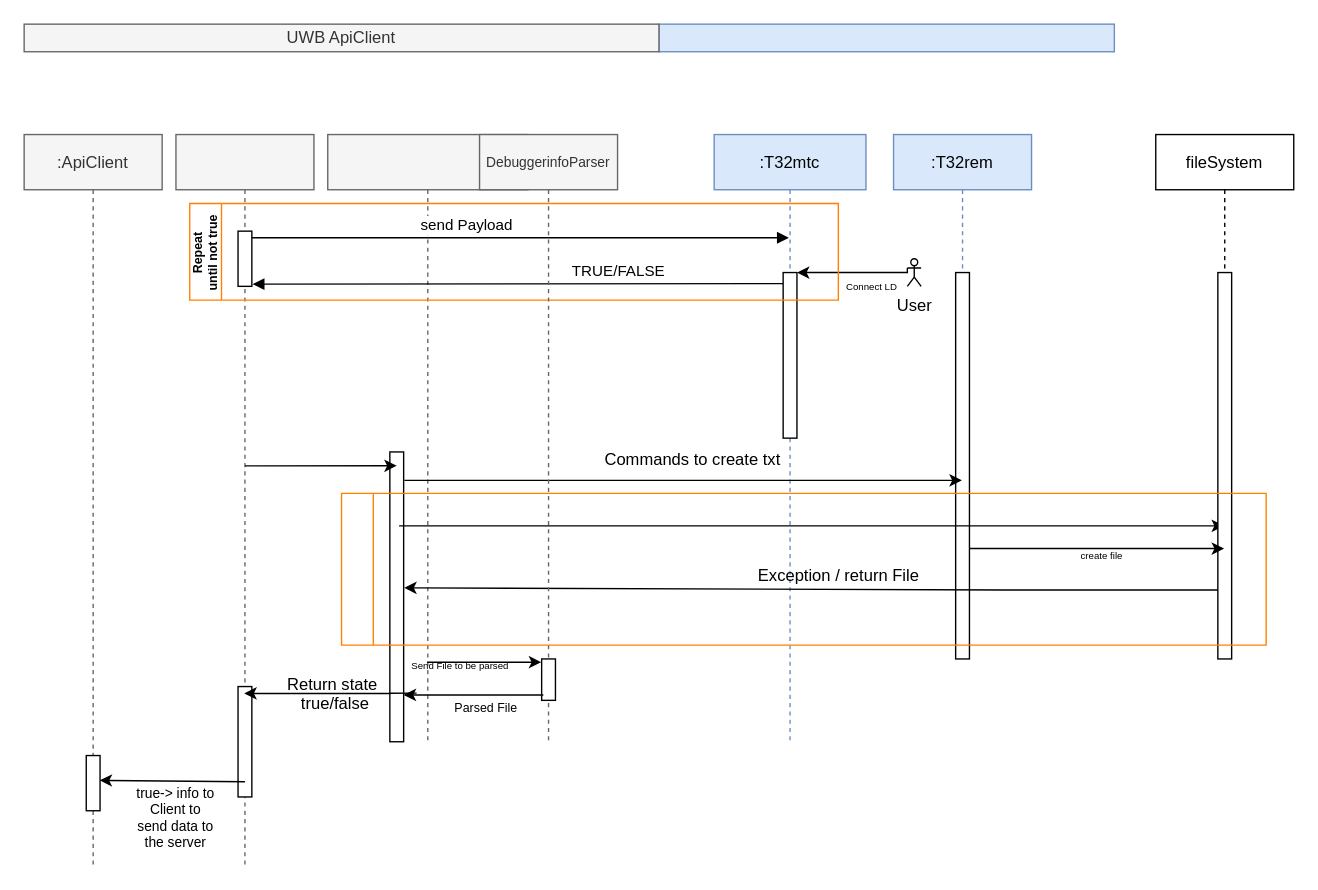
Image size: 1318x890. Some labels were removed from this diagram. Here are the shapes that lost their labels. From the top down, the box of each, then its label:
(658, 23, 1114, 52): ZF - TRACE32
(326, 133, 528, 742): :InfoFetcher
(175, 133, 314, 866): :ProcesDetection
(340, 492, 1266, 645): 5 x per second if not true
